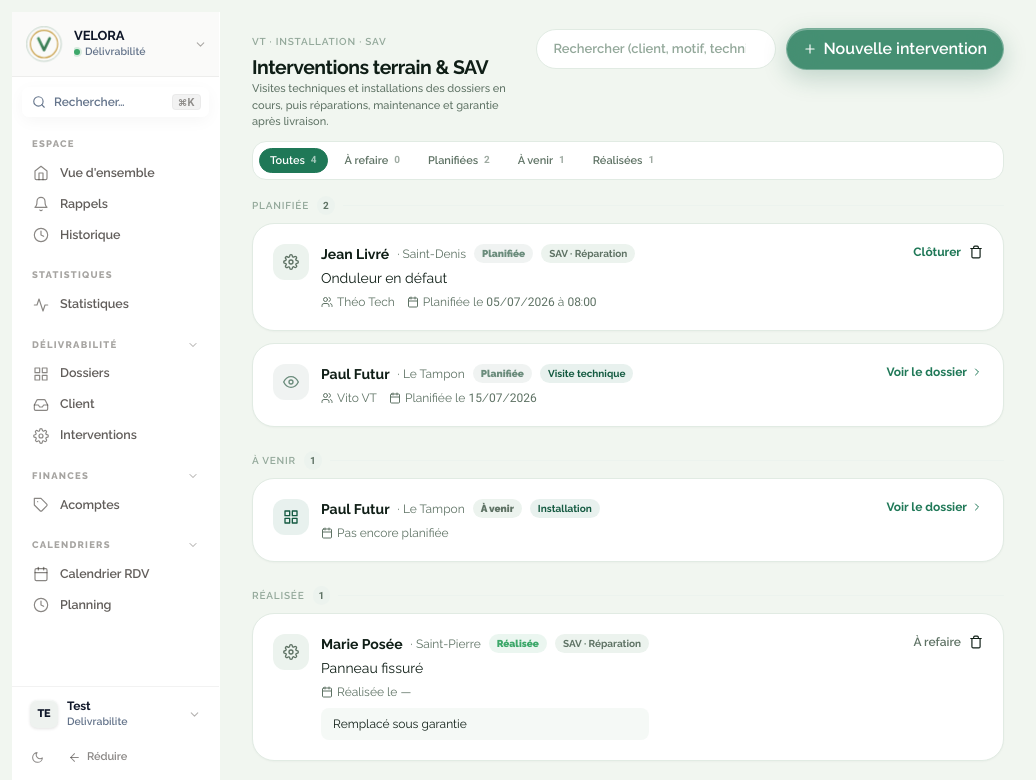
Scenario: Interventions — page SAV › filtre statut : « Réalisées » ne montre que les interventions réalisées
Step 1. Click the button "Réalisées 1" → (624, 160), box [582,148,665,173]
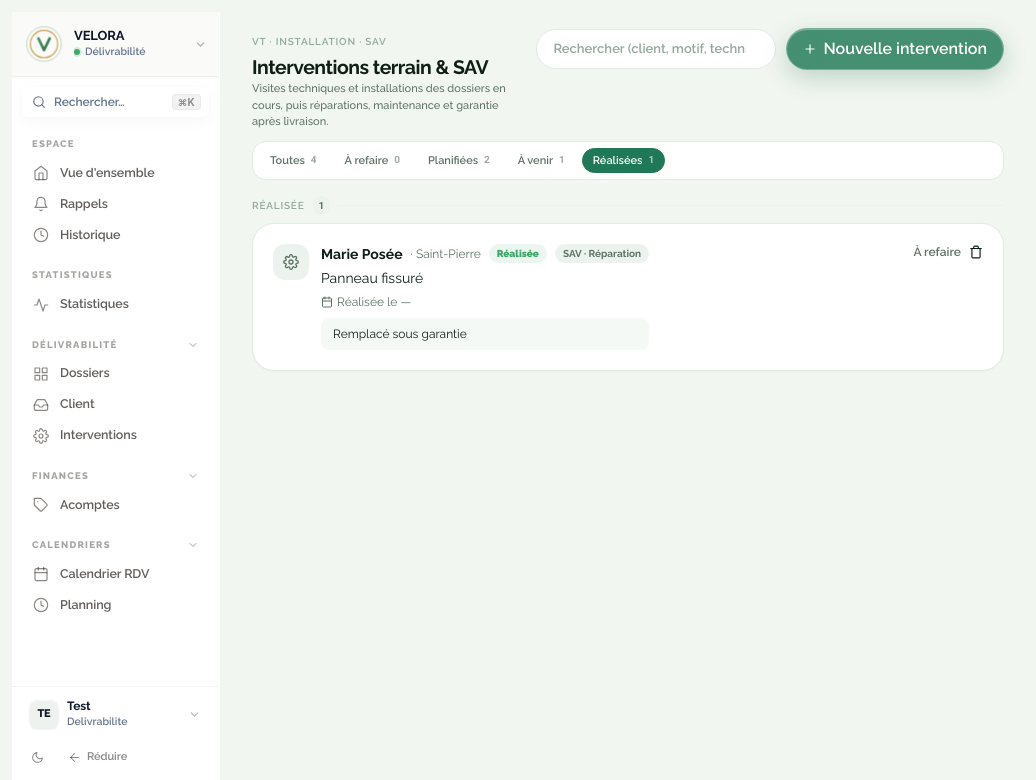
Expected: the text "Panneau fissuré" is shown, [321,270,423,286]
Expected: the text "Onduleur en défaut" is gone
